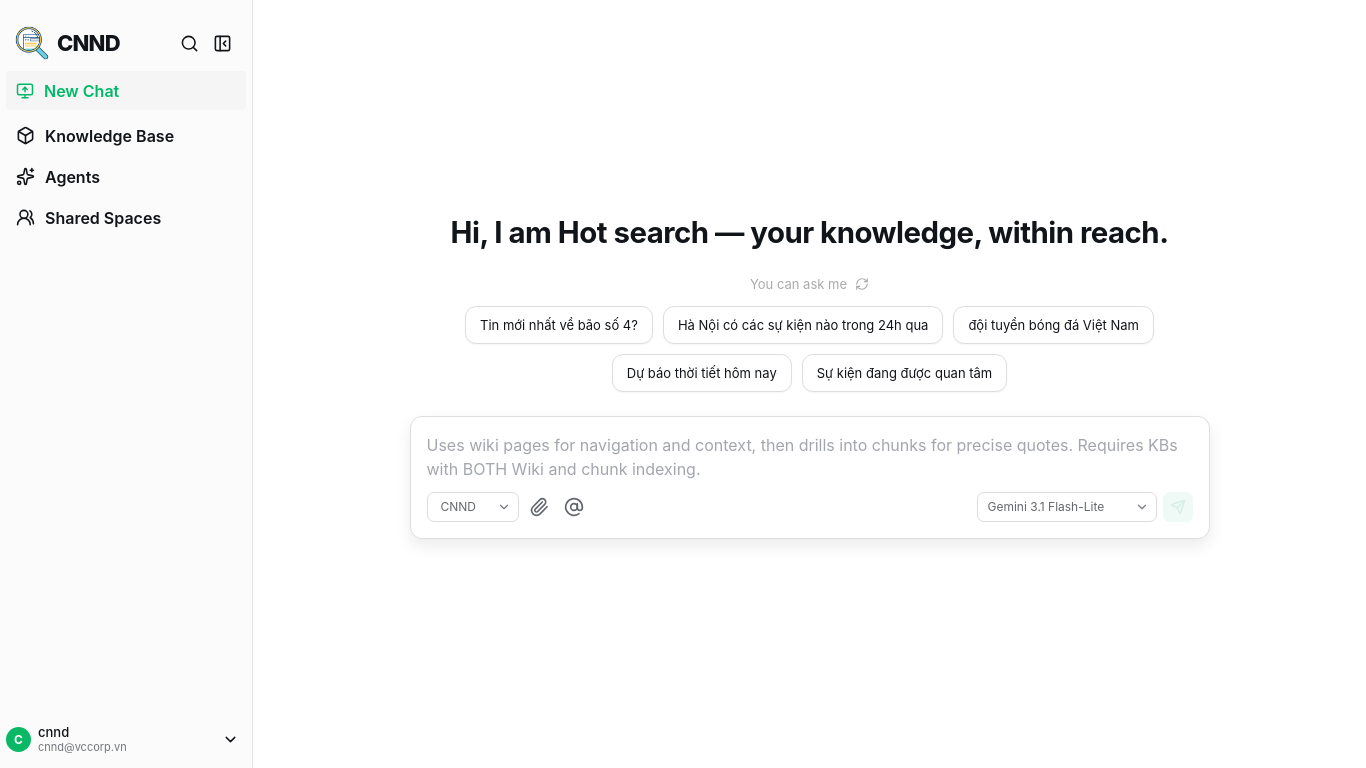
Test case: offers related search on empty direct results and retries errors before showing empty state
Type "Tìm sự kiện" into the text box named "Message" at (810, 460), box top-left (426, 433), bottom-right (1192, 487)
Then press Enter
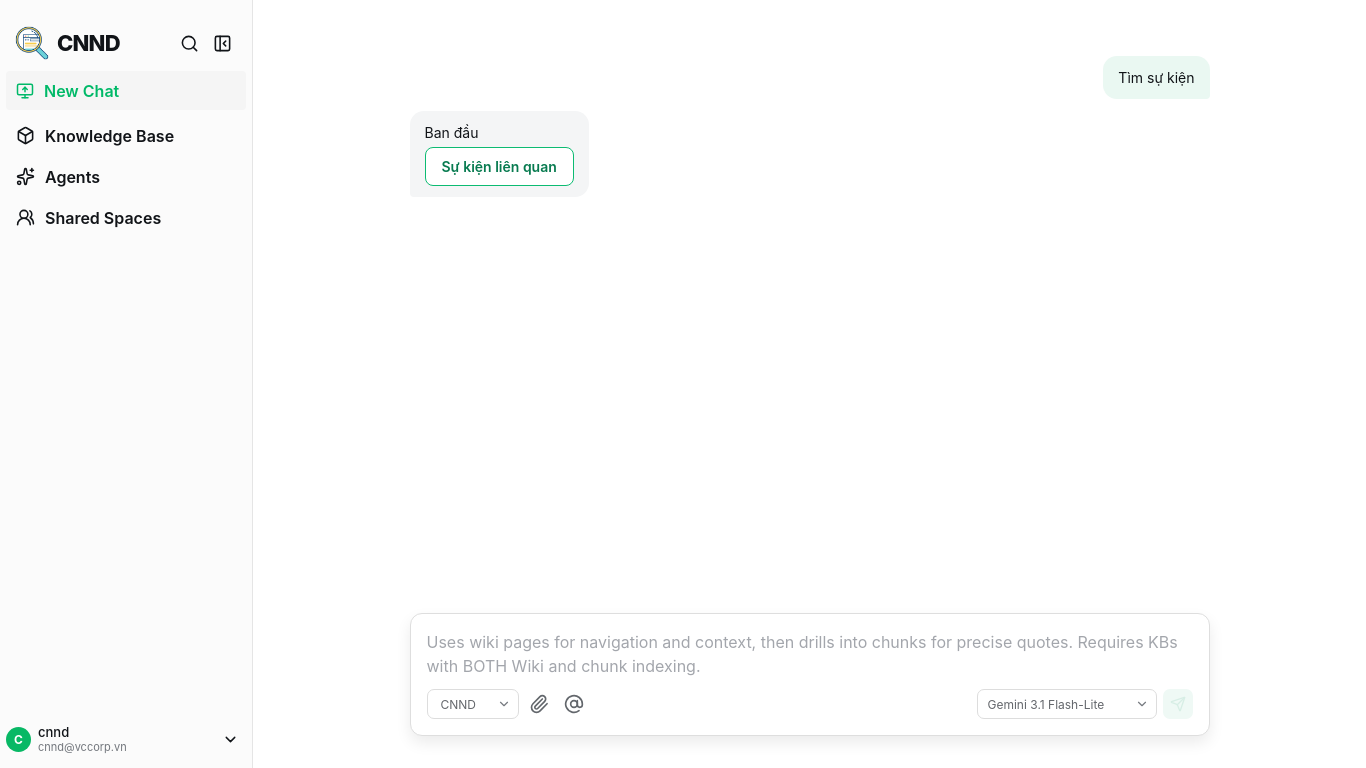
Click the button "Sự kiện liên quan" at (499, 166), box top-left (424, 147), bottom-right (574, 186)
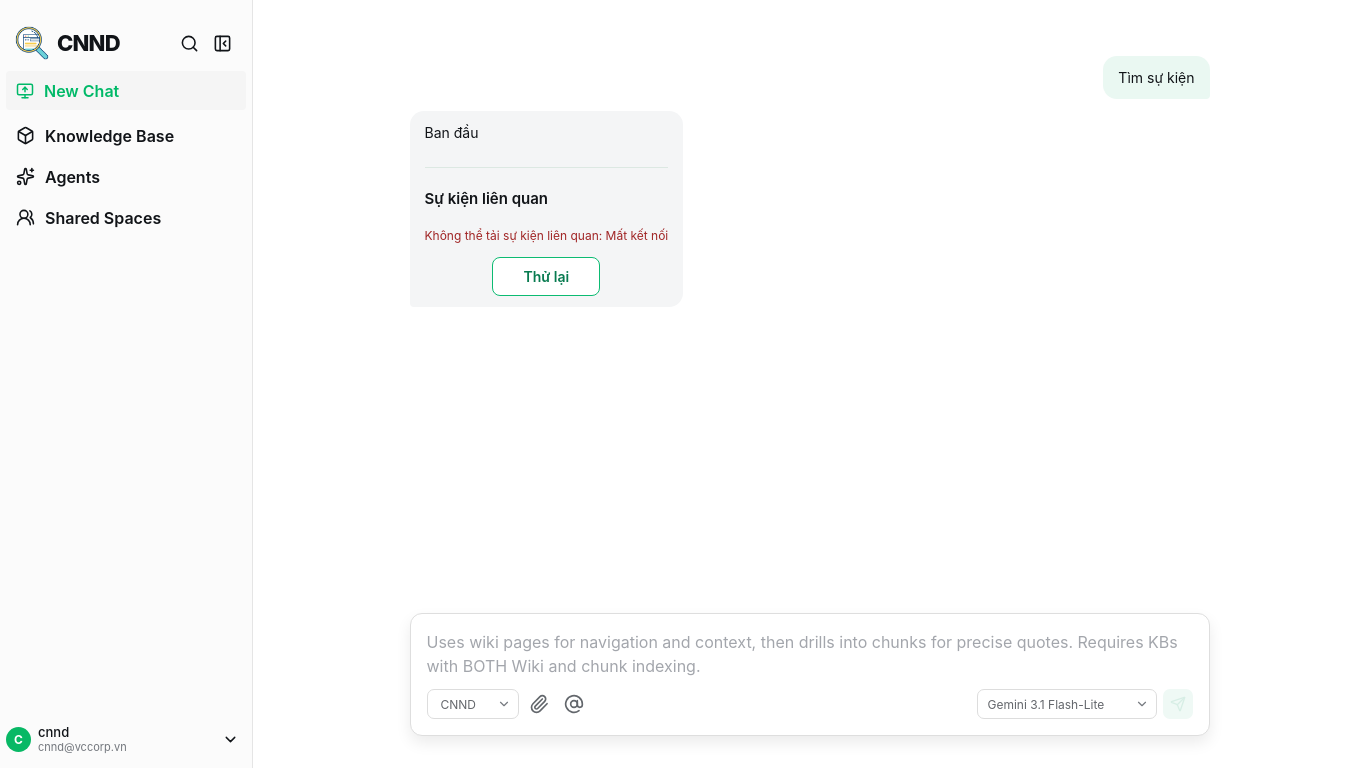
Expected: the message shows "Mất kết nối", top-left (424, 228), bottom-right (668, 242)
Click the button "Thử lại" at (546, 276), box top-left (492, 256), bottom-right (600, 296)
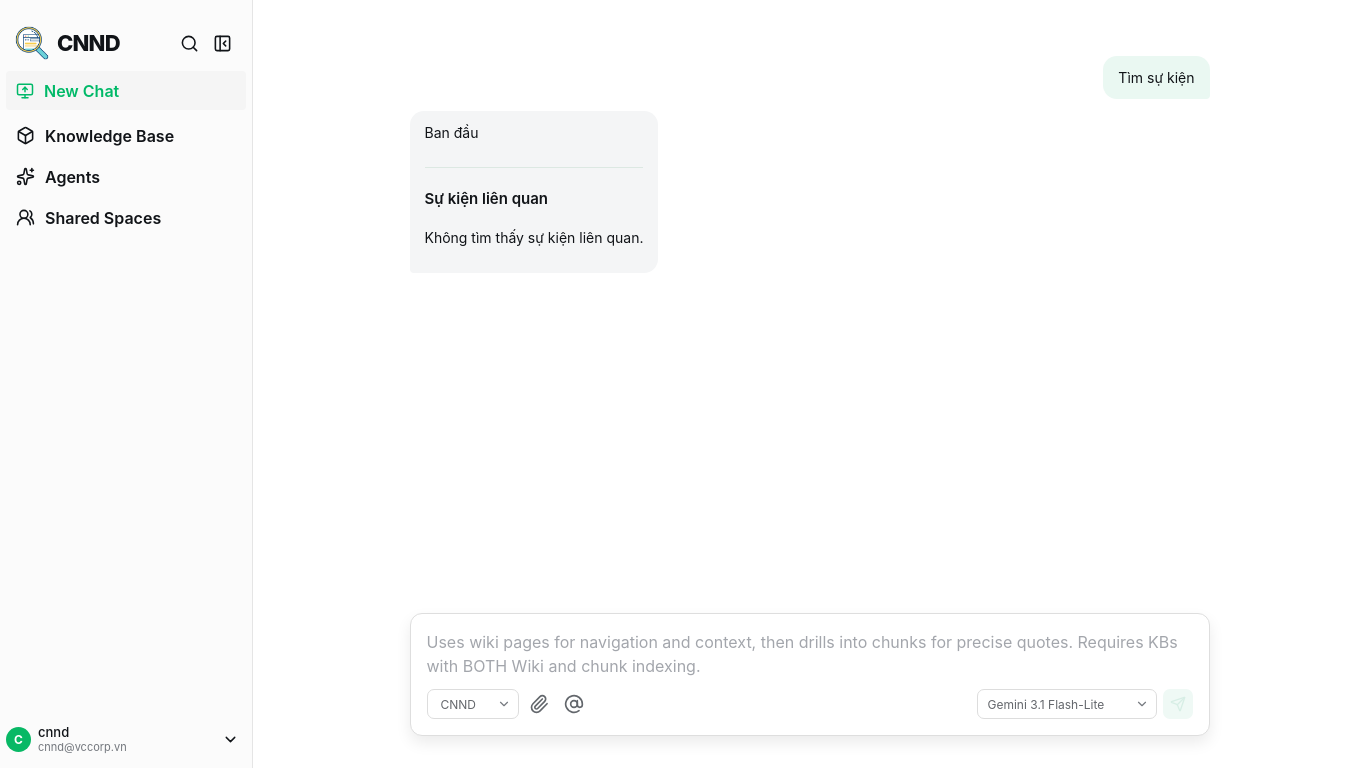
Expected: the text "Ban đầu" is shown, top-left (424, 124), bottom-right (478, 141)
Expected: the text "Không tìm thấy sự kiện liên quan." is shown, top-left (424, 226), bottom-right (644, 248)
